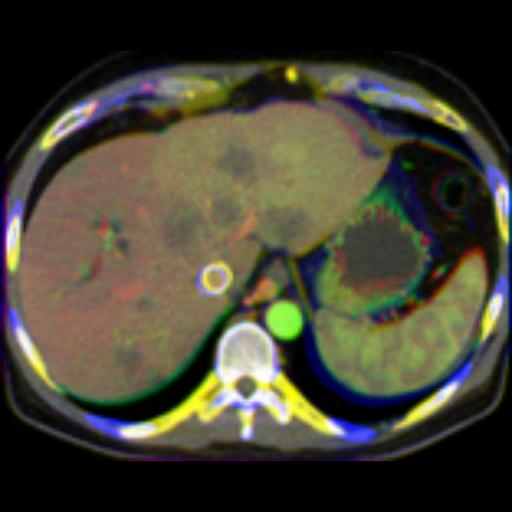Tumor: (259, 207, 318, 249), (162, 206, 202, 252), (218, 147, 254, 185), (117, 350, 152, 383), (212, 198, 245, 226)
